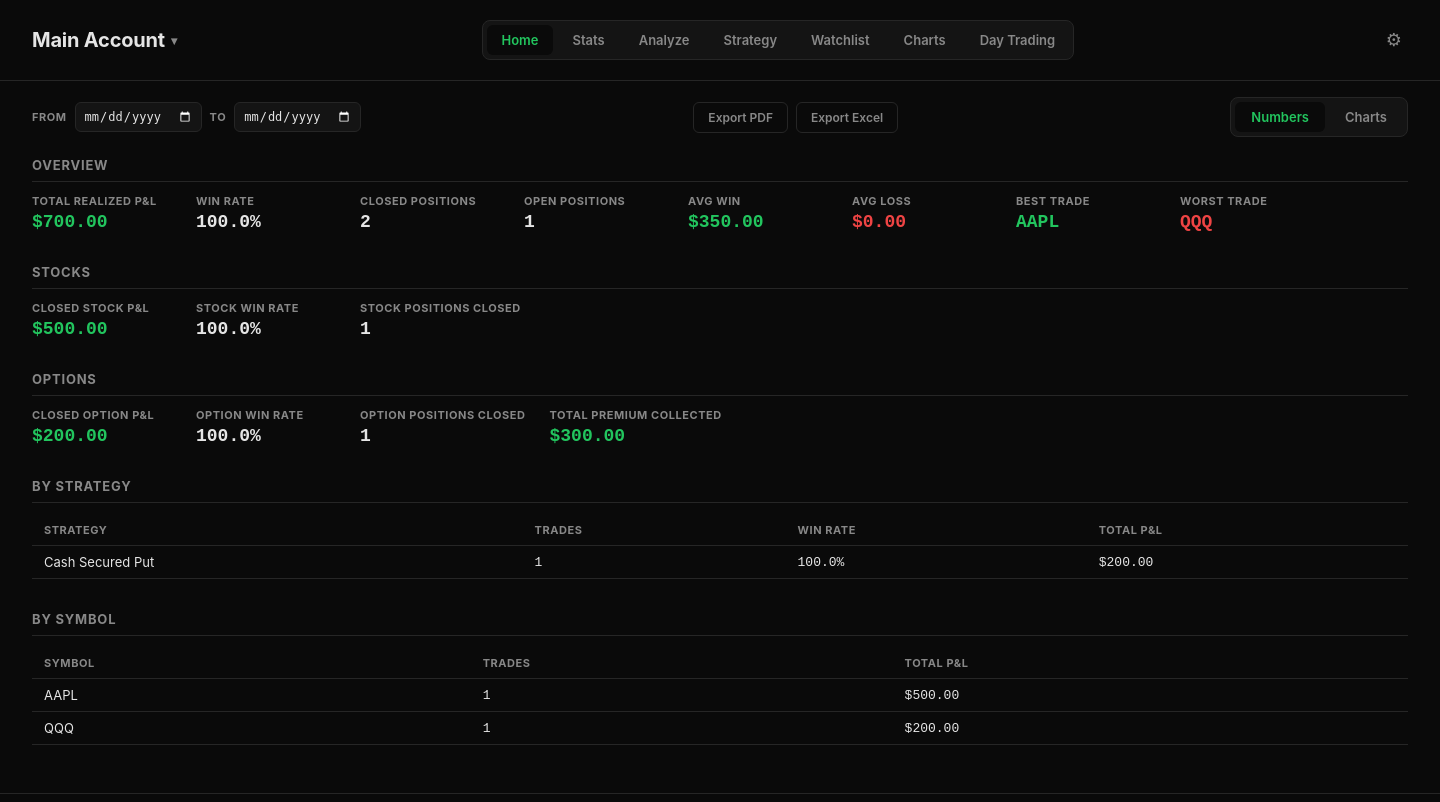
Test: StatsPage › switches to the Charts view when toggled
Click the button "Charts": (1366, 117) top-left (1329, 102), bottom-right (1403, 132)
(page scrolled)
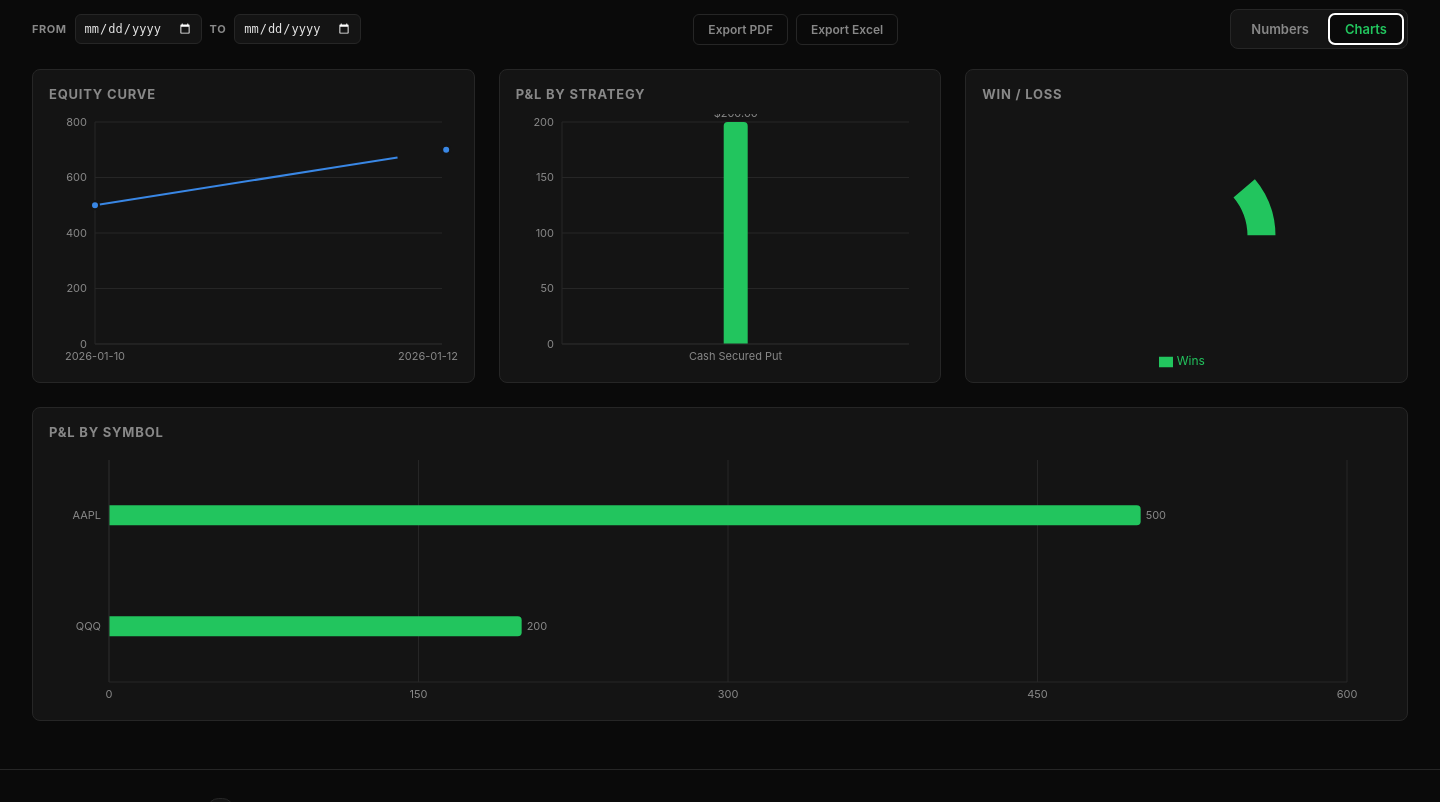
Expected: the text "Total Realized P&L" is gone
